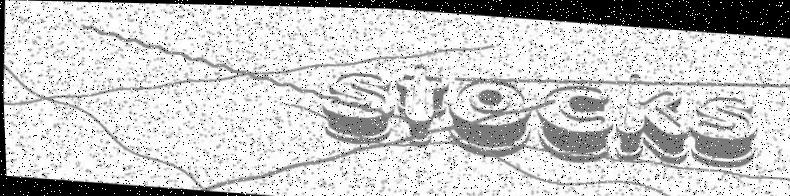c: (525, 68, 615, 168)
k: (605, 63, 696, 173)
o: (441, 68, 538, 162)
s: (312, 59, 401, 147), (686, 86, 761, 174)
t: (387, 52, 453, 153)
